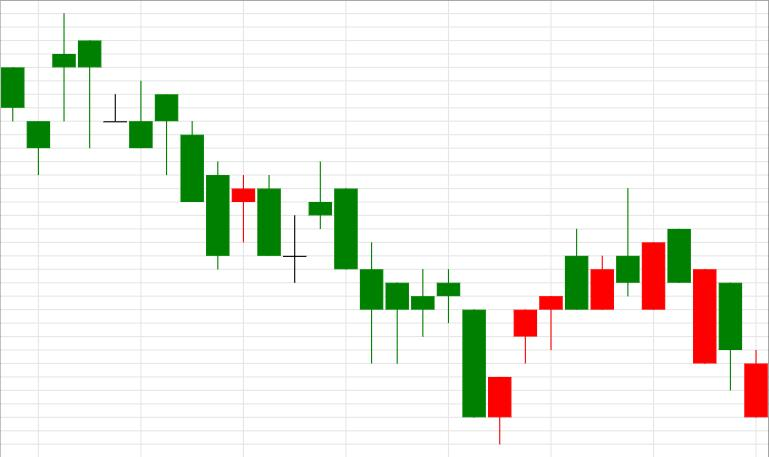shooting_star_fall: (489, 190, 639, 444)
